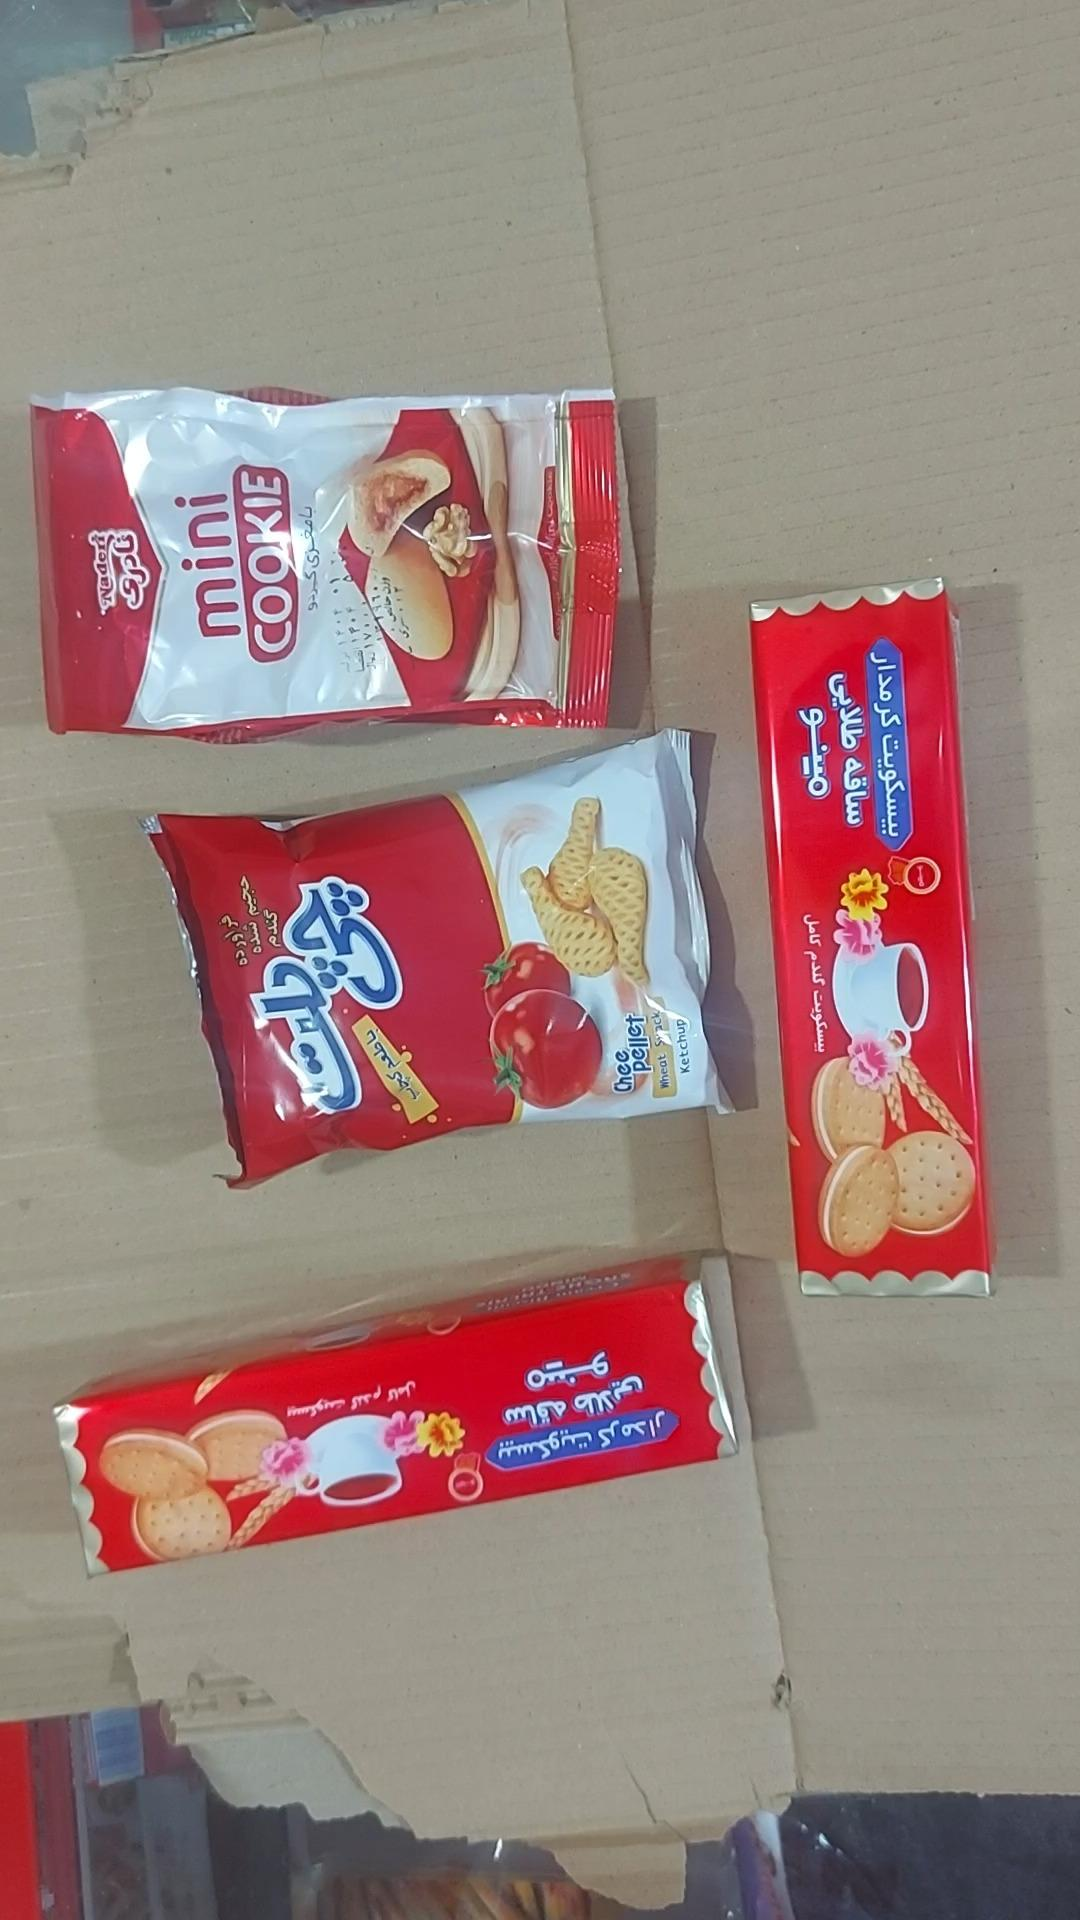Chee pellet ketchup: (142, 731, 738, 1191)
Minoo cream biscuit: (55, 1251, 742, 1578), (749, 582, 997, 1302)
Naderi mini cookie: (28, 386, 626, 746)
